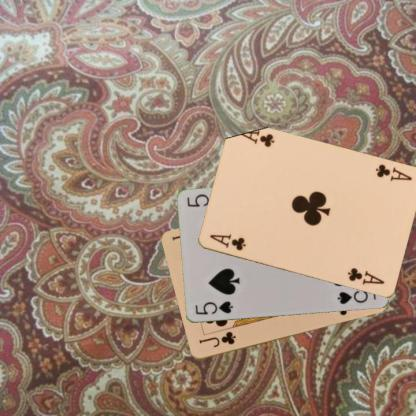5s: (192, 299, 234, 316)
Ac: (372, 161, 413, 183), (207, 232, 247, 252)
Jc: (196, 329, 237, 349)
